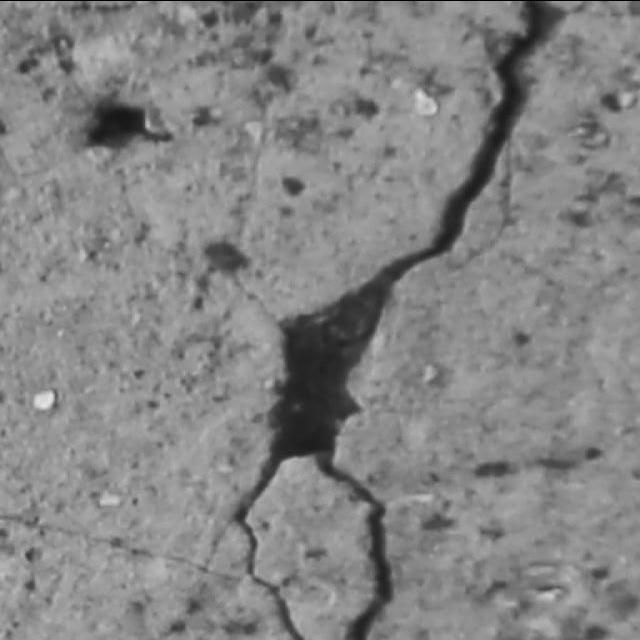SurfaceCrack: (185, 1, 630, 640)
